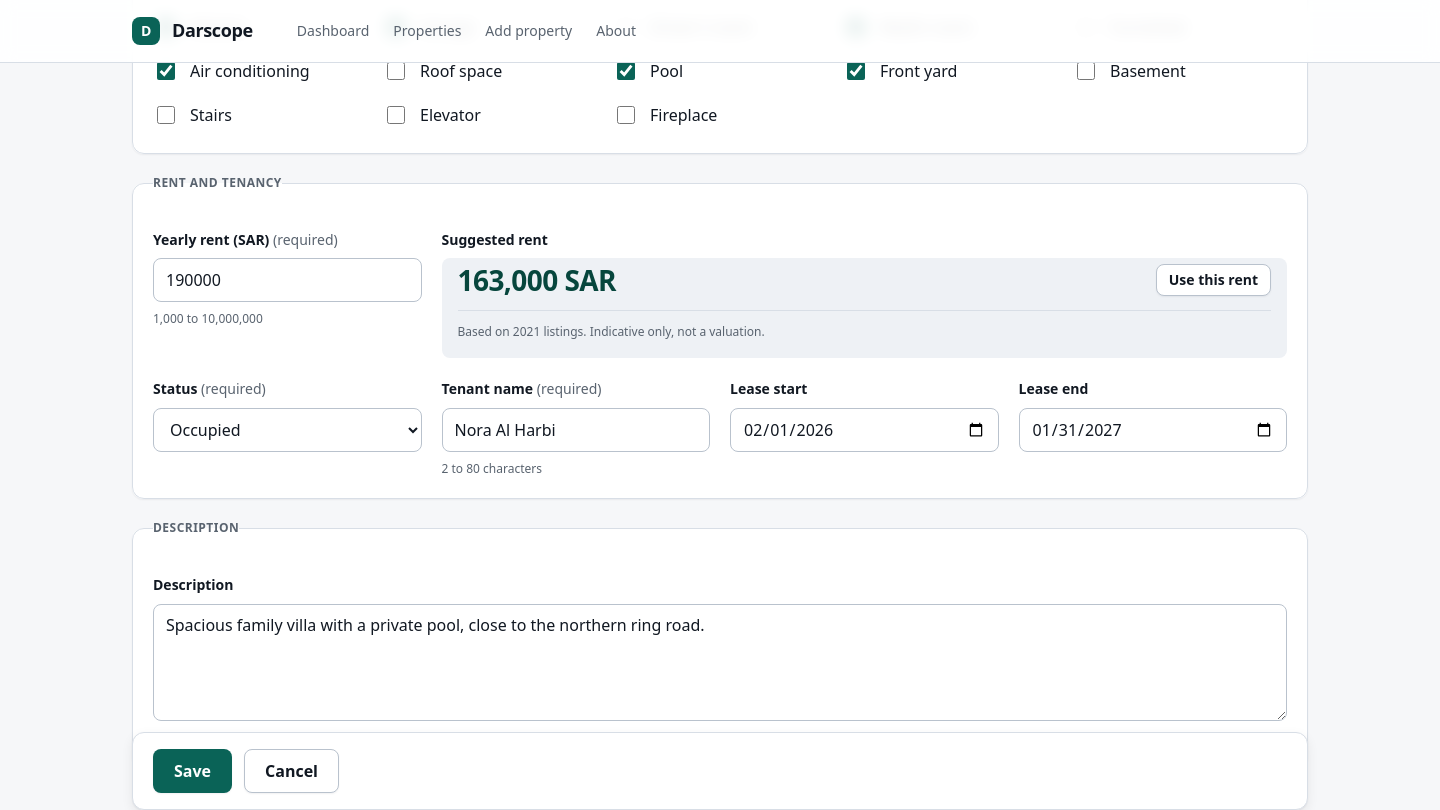
Test: PropertyFormPage: AC-06 the status leaves Occupied (FR-UPD-07) › warns before saving, then clears the tenant and lease details
(page scrolled)
Expected: the text "Changing the status will clear the tenant and lease details." is not shown
Select "Vacant" in the dropdown labelled "Status (required)" at (287, 430), box [153, 408, 422, 452]
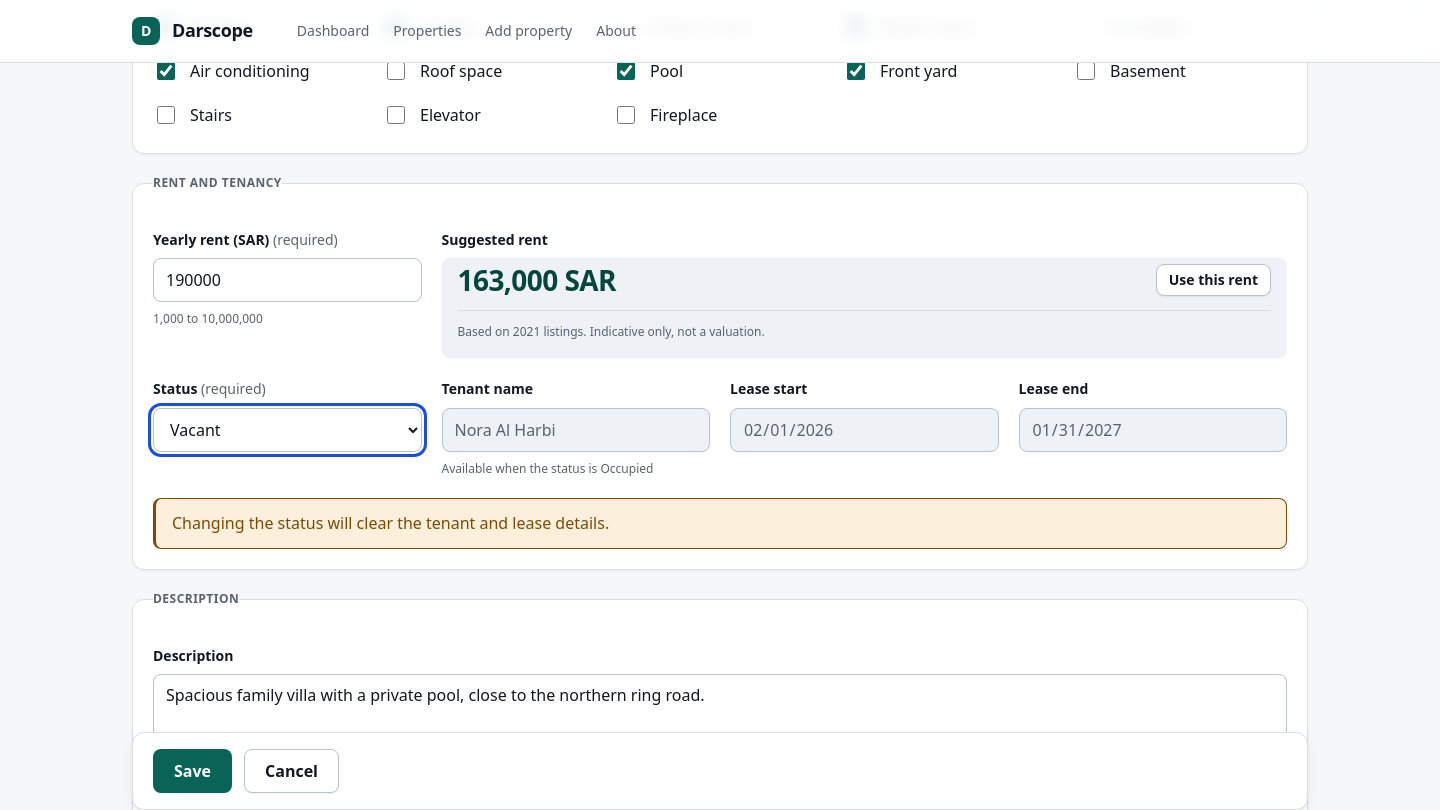
Expected: the text "Changing the status will clear the tenant and lease details." is shown, [153, 498, 1287, 549]
Click the button "Save".
click(192, 771)  # box [153, 749, 232, 793]
(page scrolled)
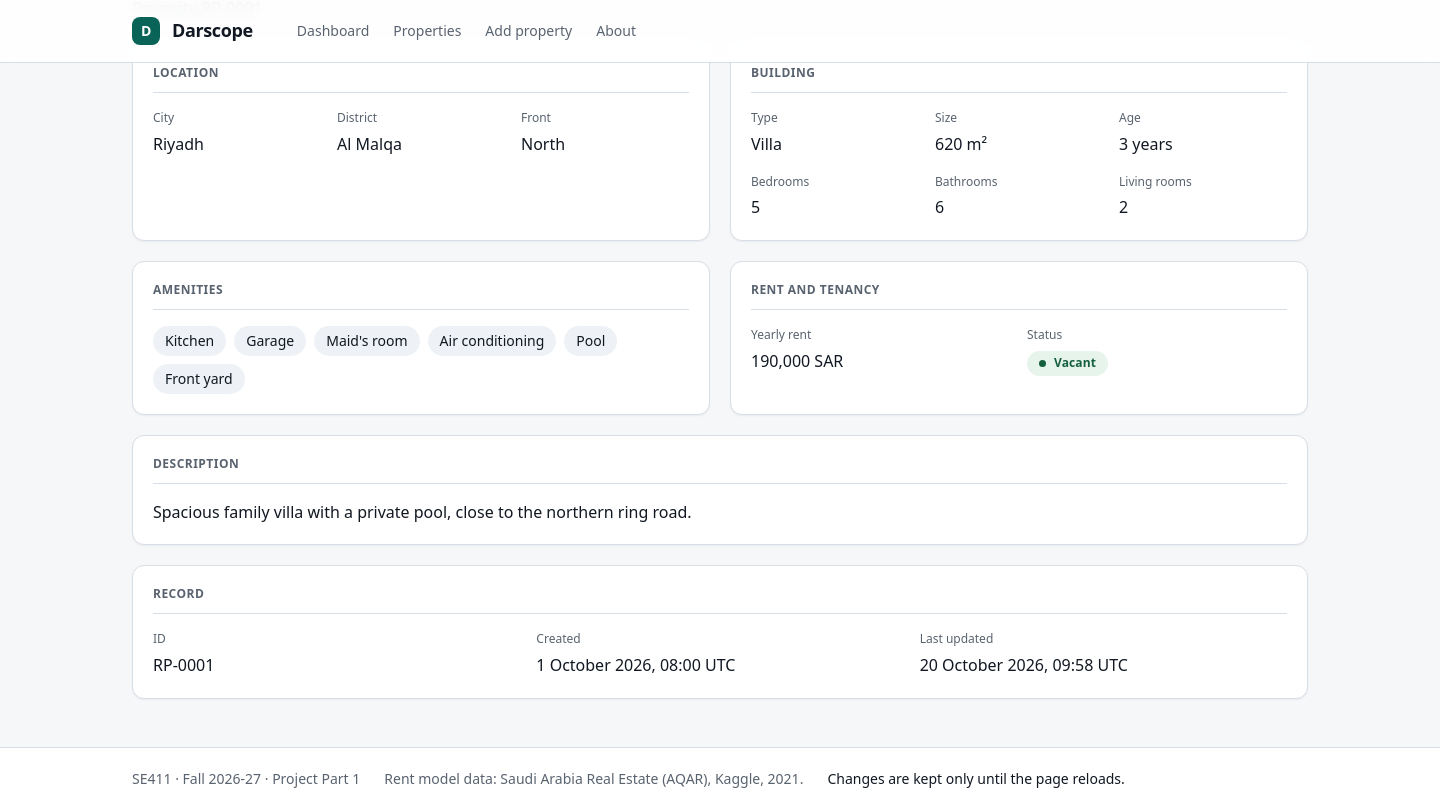
Expected: the element showing "Vacant" is shown, [1027, 351, 1108, 376]
Expected: the text "Tenant" is gone
